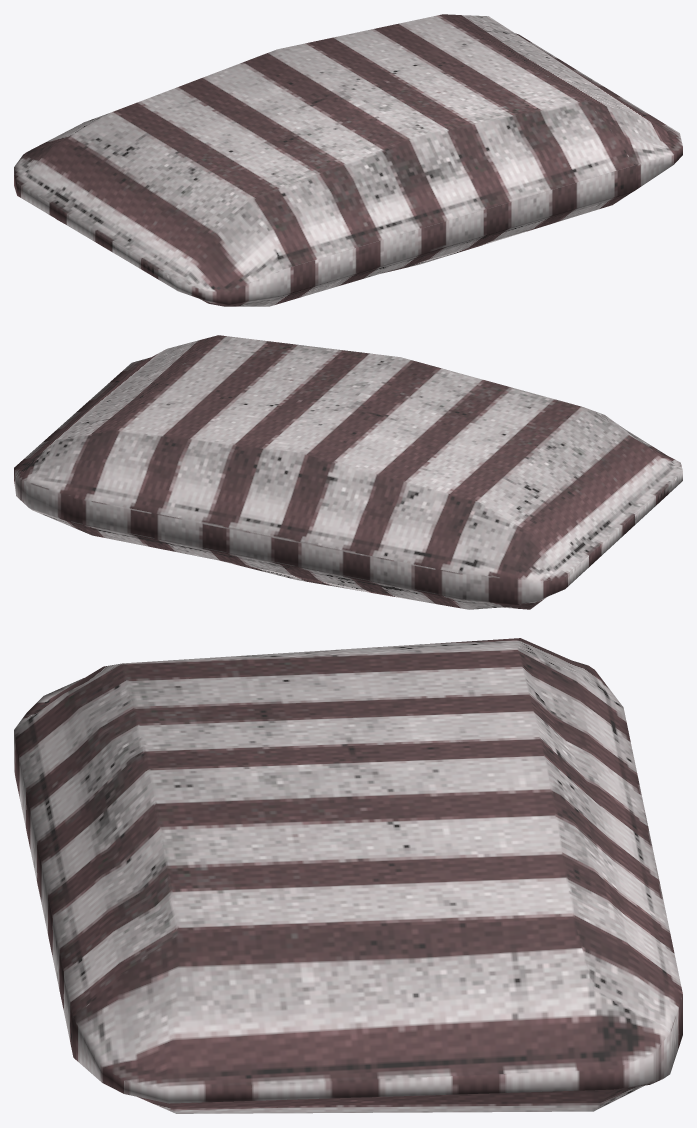
File: Pillow001.fbx
3 views of the same model, one above another, from view 1: azimuth 30°, elevation 25°; view 2: azimuth 150°, elevation 25°; view 3: azimuth 270°, elevation 25° (orthographic). The views are drawn at different scales.
Parts seen in each view (by area): view 1: Pillow001; view 2: Pillow001; view 3: Pillow001.
Boxes of the visible parts, left/top/right/bottom form: Pillow001: left=14, top=14, right=682, bottom=306; Pillow001: left=14, top=335, right=682, bottom=609; Pillow001: left=14, top=638, right=682, bottom=1113.
Bounding box in the file's own units: 52.27 × 78.87 × 17.66.
